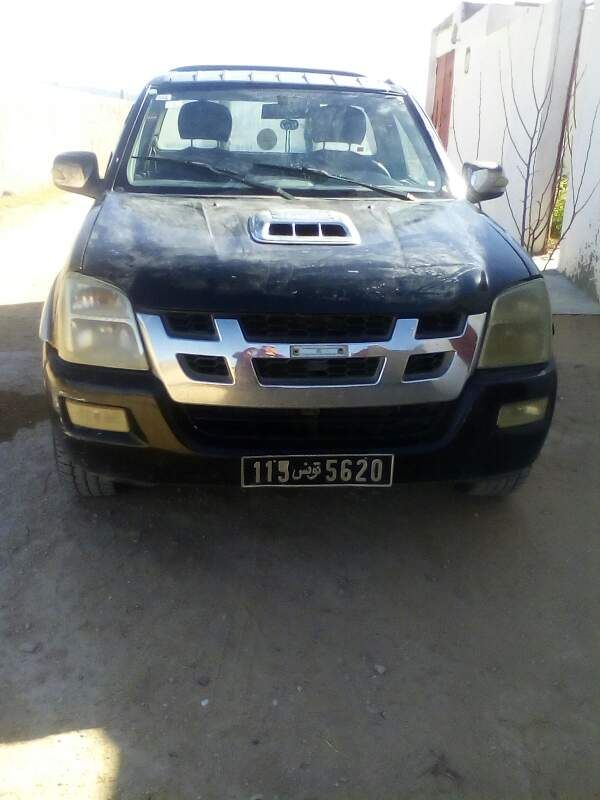LP: (239, 452, 395, 490)
